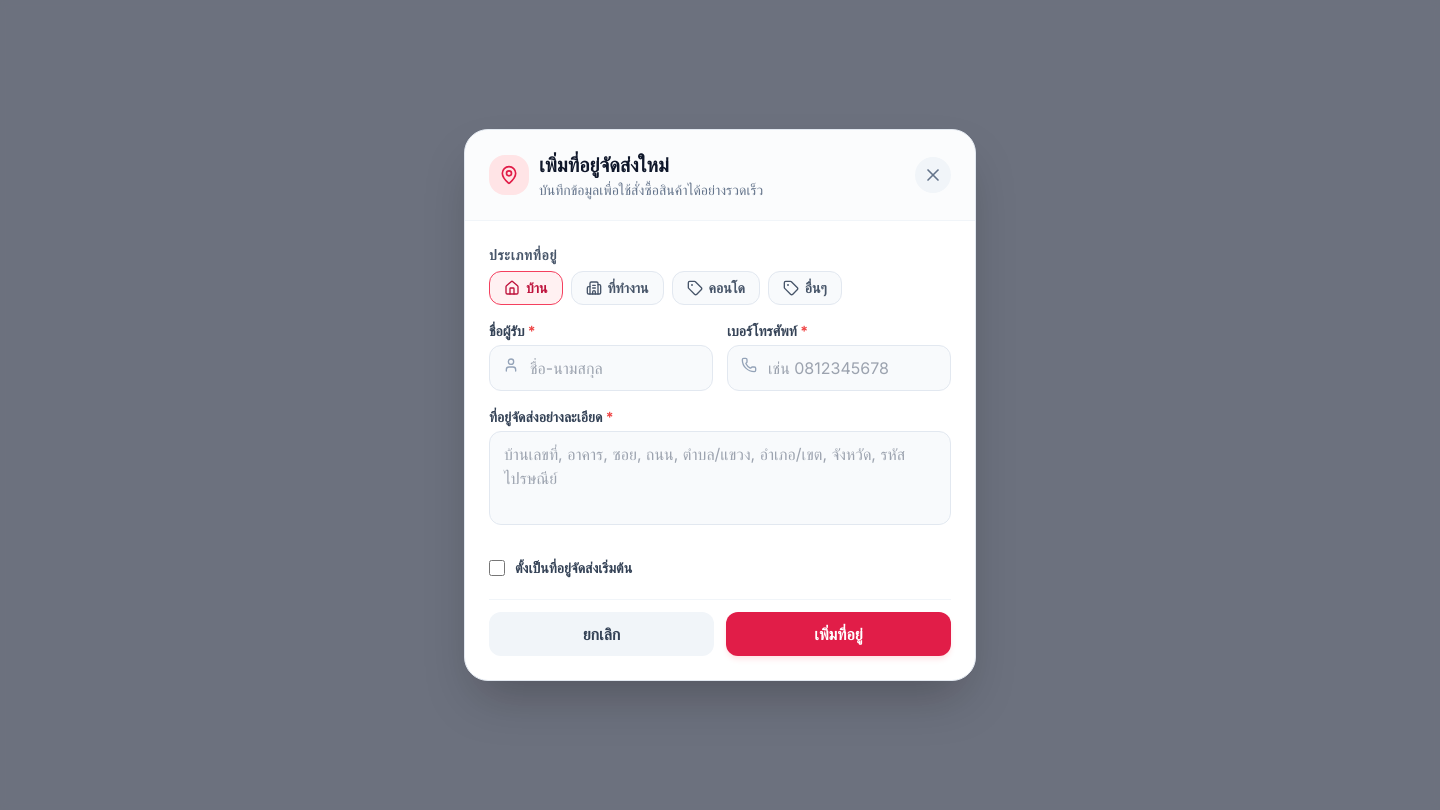
Test case: AddressModal Component › validates required fields on submit
Click the button "เพิ่มที่อยู่".
click(838, 634)  # box [726, 612, 951, 656]
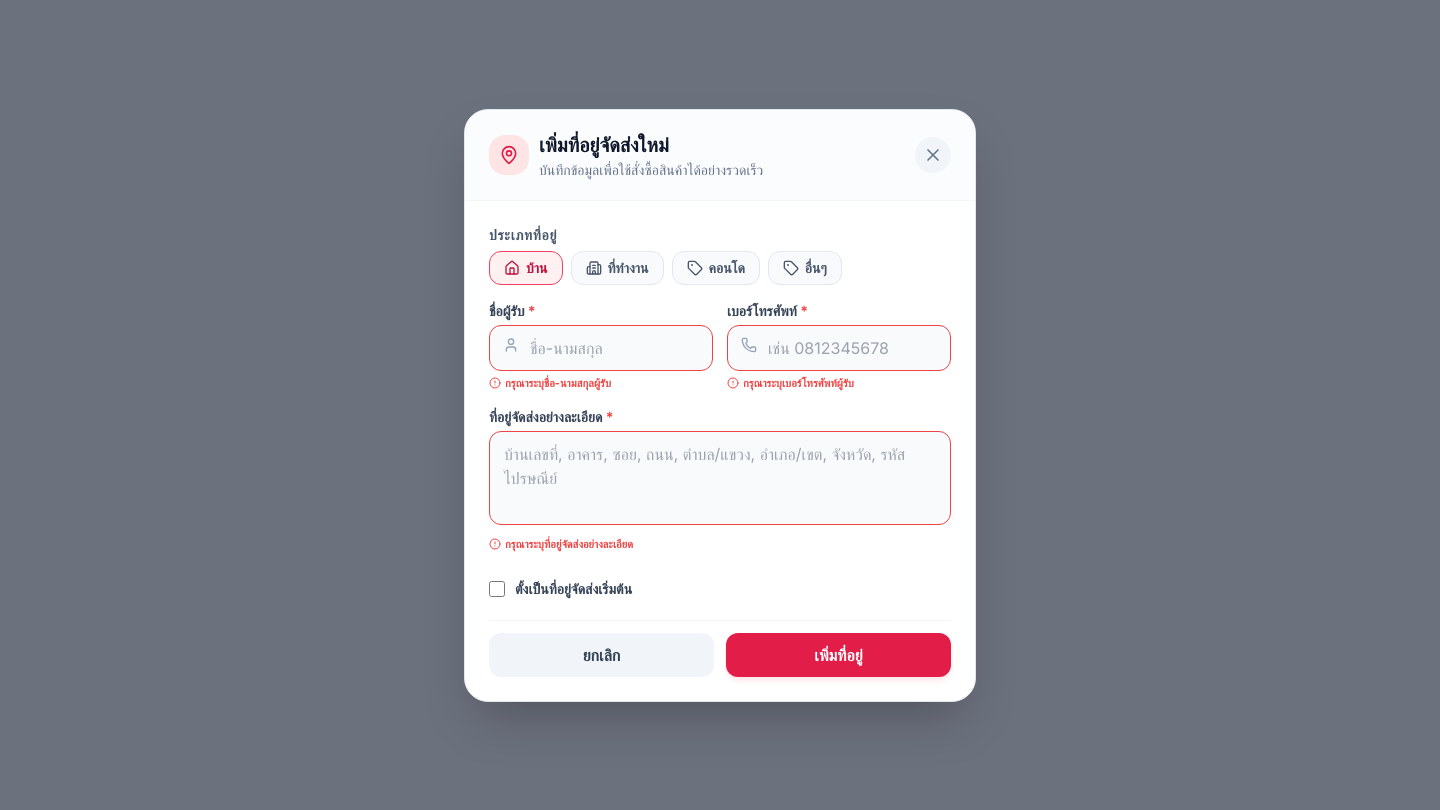
expect the text "กรุณาระบุชื่อ-นามสกุลผู้รับ" is shown: met, box [489, 376, 611, 390]
expect the text "กรุณาระบุเบอร์โทรศัพท์ผู้รับ" is shown: met, box [727, 376, 854, 390]
expect the text "กรุณาระบุที่อยู่จัดส่งอย่างละเอียด" is shown: met, box [489, 537, 633, 551]
